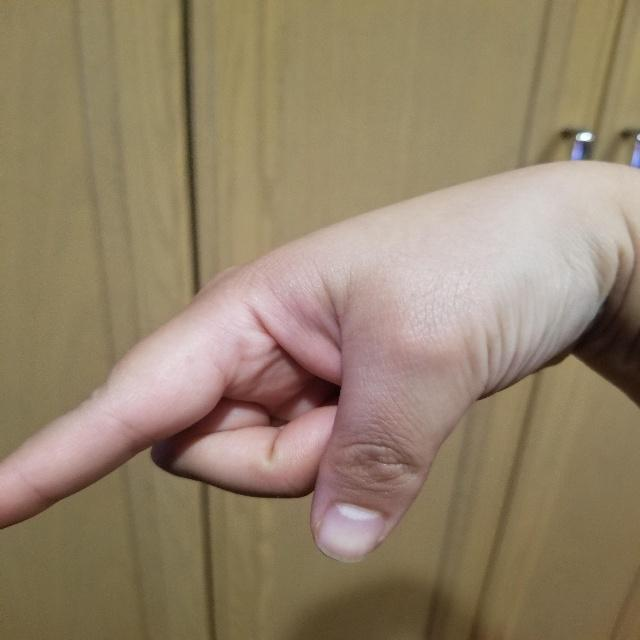Q: (0, 135, 634, 571)
